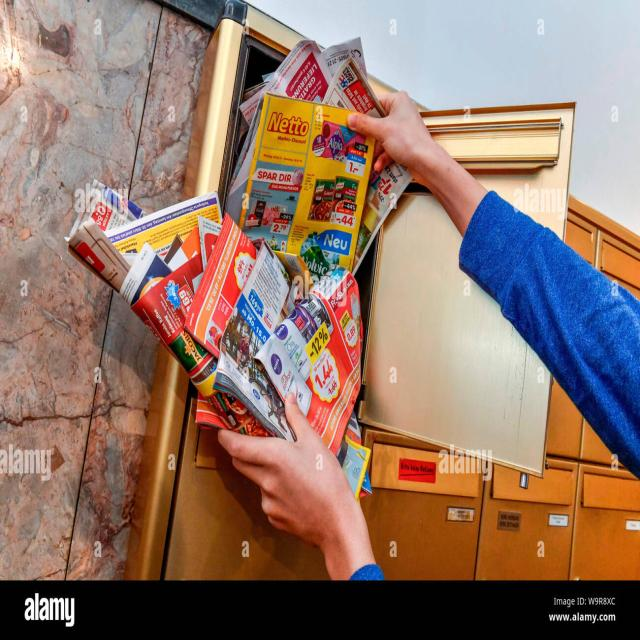paper: (70, 186, 361, 440), (237, 44, 405, 288)
